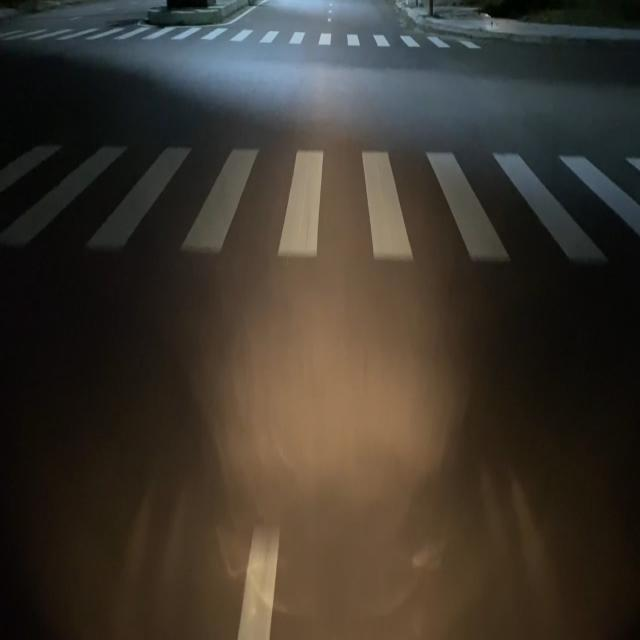walk-crossing: (0, 139, 640, 266), (2, 22, 482, 58)
